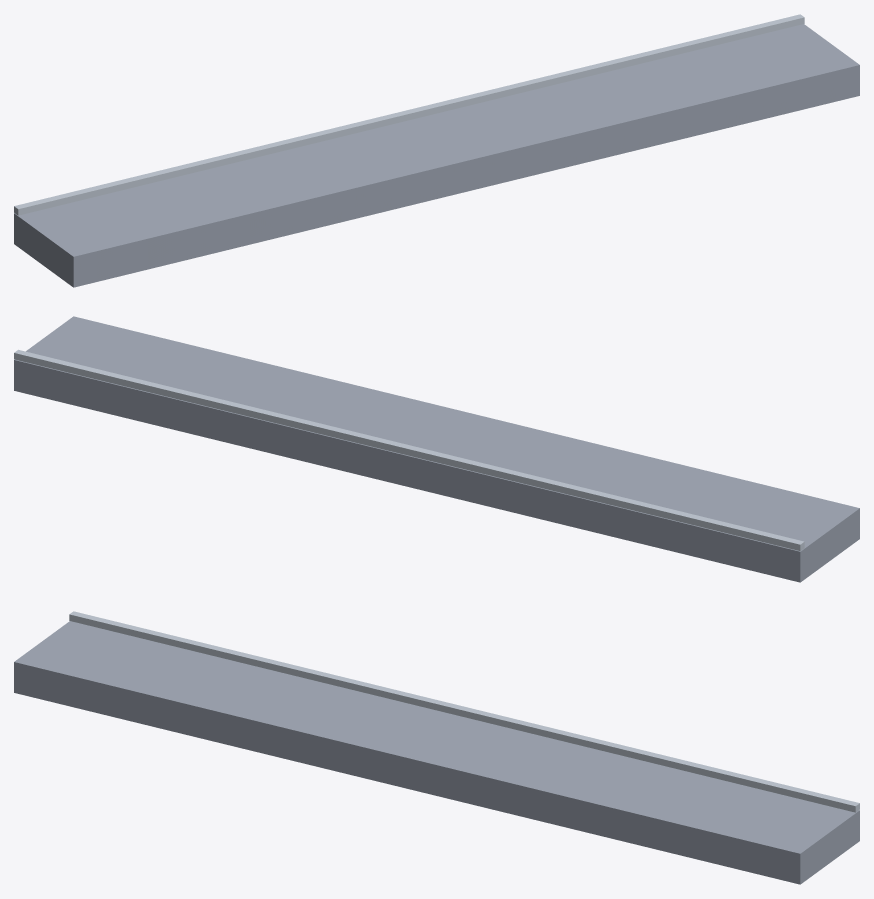
The model's file is library-stair-step.glb.
3 views of the same model, one above another, from view 1: azimuth 30°, elevation 25°; view 2: azimuth 150°, elevation 25°; view 3: azimuth 330°, elevation 25° (orthographic).
Visible parts, largest first — view 1: step, edge; view 2: step, edge; view 3: step, edge.
Part boxes in pixels (bbox=[...]): step: bbox=[14, 24, 859, 287]; edge: bbox=[14, 14, 804, 215]; step: bbox=[14, 316, 859, 582]; edge: bbox=[14, 349, 804, 550]; step: bbox=[14, 621, 859, 884]; edge: bbox=[69, 611, 859, 812].
Bounding box in the file's own units: 6.4 × 0.295 × 0.84.
